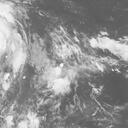cyclone: (32, 34, 97, 95), (1, 2, 27, 99)
